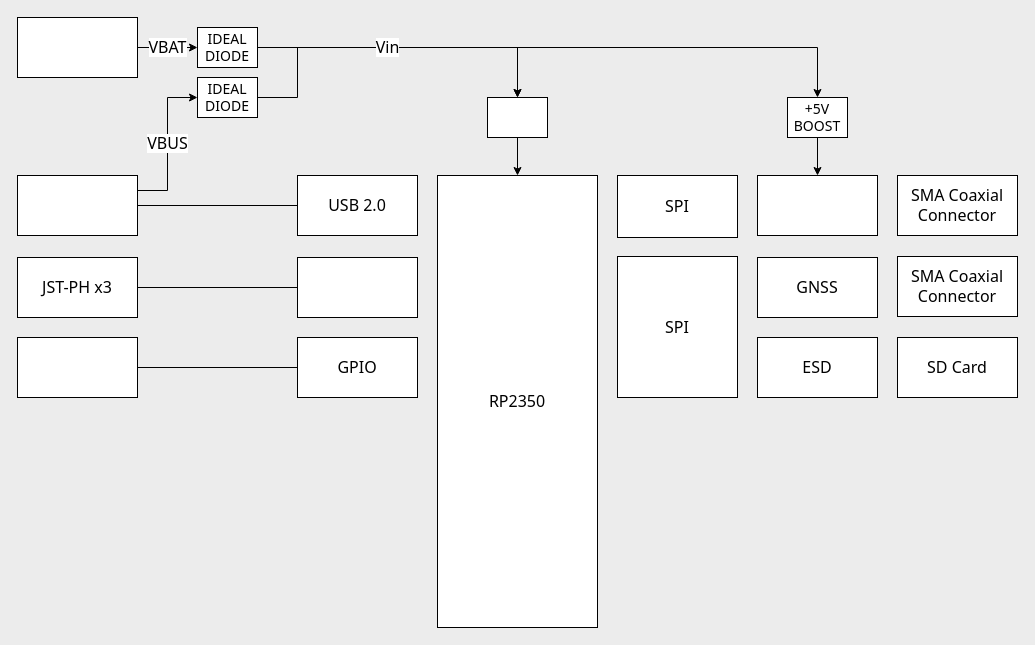
This 1035x645 diagram has some shape labels left out. Each missing label, with the centre of its shape:
"+3V3 BUCK" goes at (x=517, y=117).
"18650 BATTERY" goes at (x=77, y=47).
"LoRa Transceiver" goes at (x=817, y=205).
"TX indicator LED" goes at (x=77, y=367).
"UART" goes at (x=357, y=287).
"USB-C" goes at (x=77, y=205).
